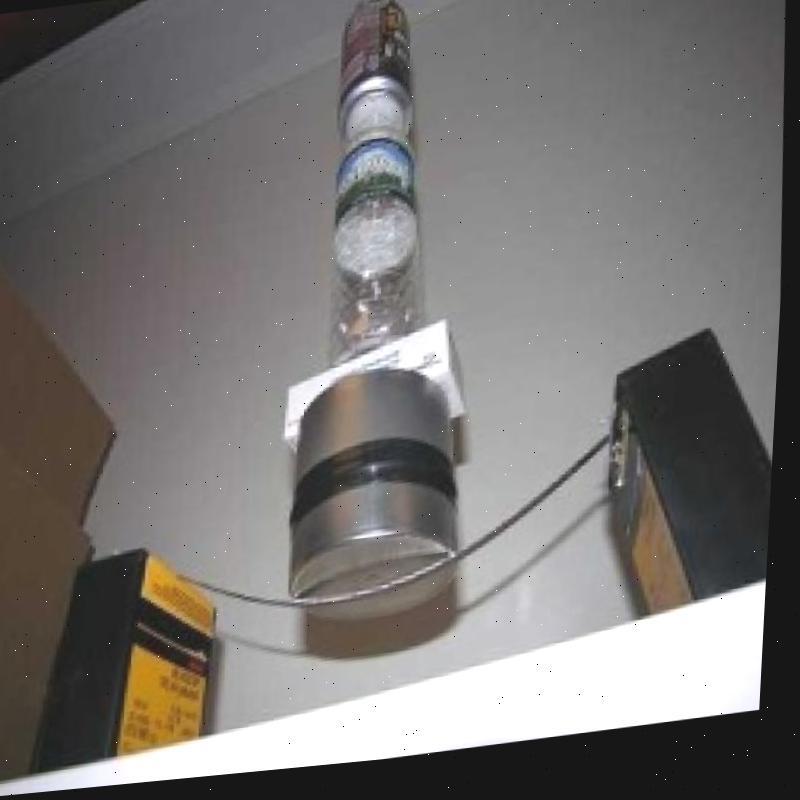botella: (326, 133, 431, 374)
